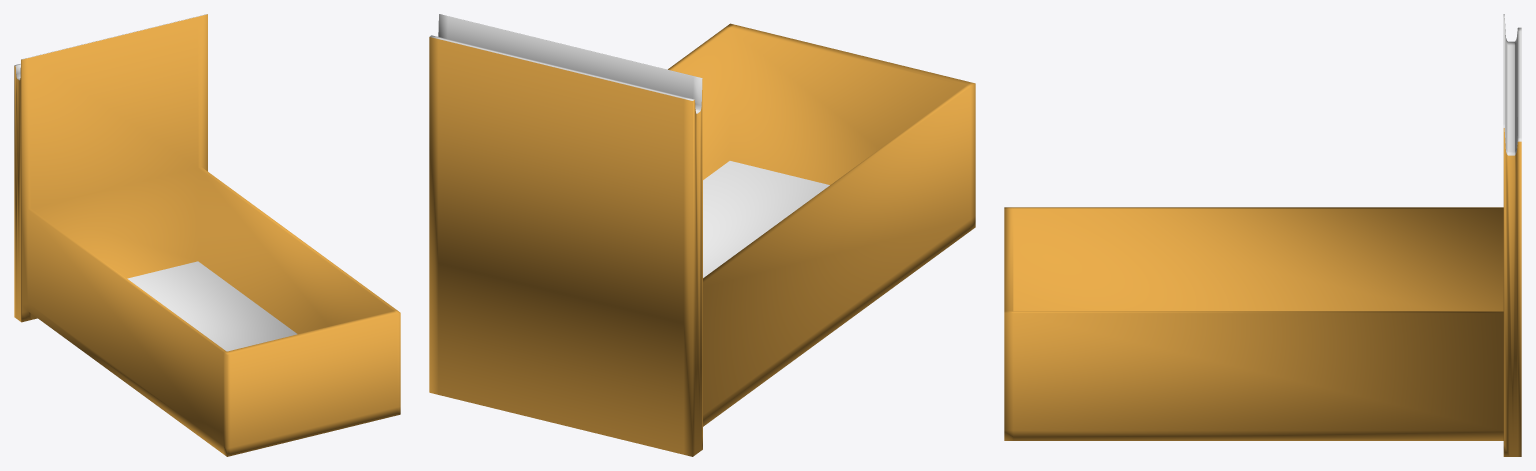
The model's file is SchubladeSchmal1.fbx.
3 views of the same model, side by side, from view 1: azimuth 30°, elevation 25°; view 2: azimuth 150°, elevation 25°; view 3: azimuth 270°, elevation 25° (orthographic). The views are drawn at different scales.
Parts seen in each view (by area): view 1: Auszug2Schublade2.001; view 2: Auszug2Schublade2.001; view 3: Auszug2Schublade2.001.
Boxes of the visible parts, x1,y1,x2,y2 form: Auszug2Schublade2.001: (14, 14, 400, 456); Auszug2Schublade2.001: (429, 14, 975, 456); Auszug2Schublade2.001: (1004, 14, 1521, 456).
Bounding box in the file's own units: 29.71 × 40 × 57.01.
